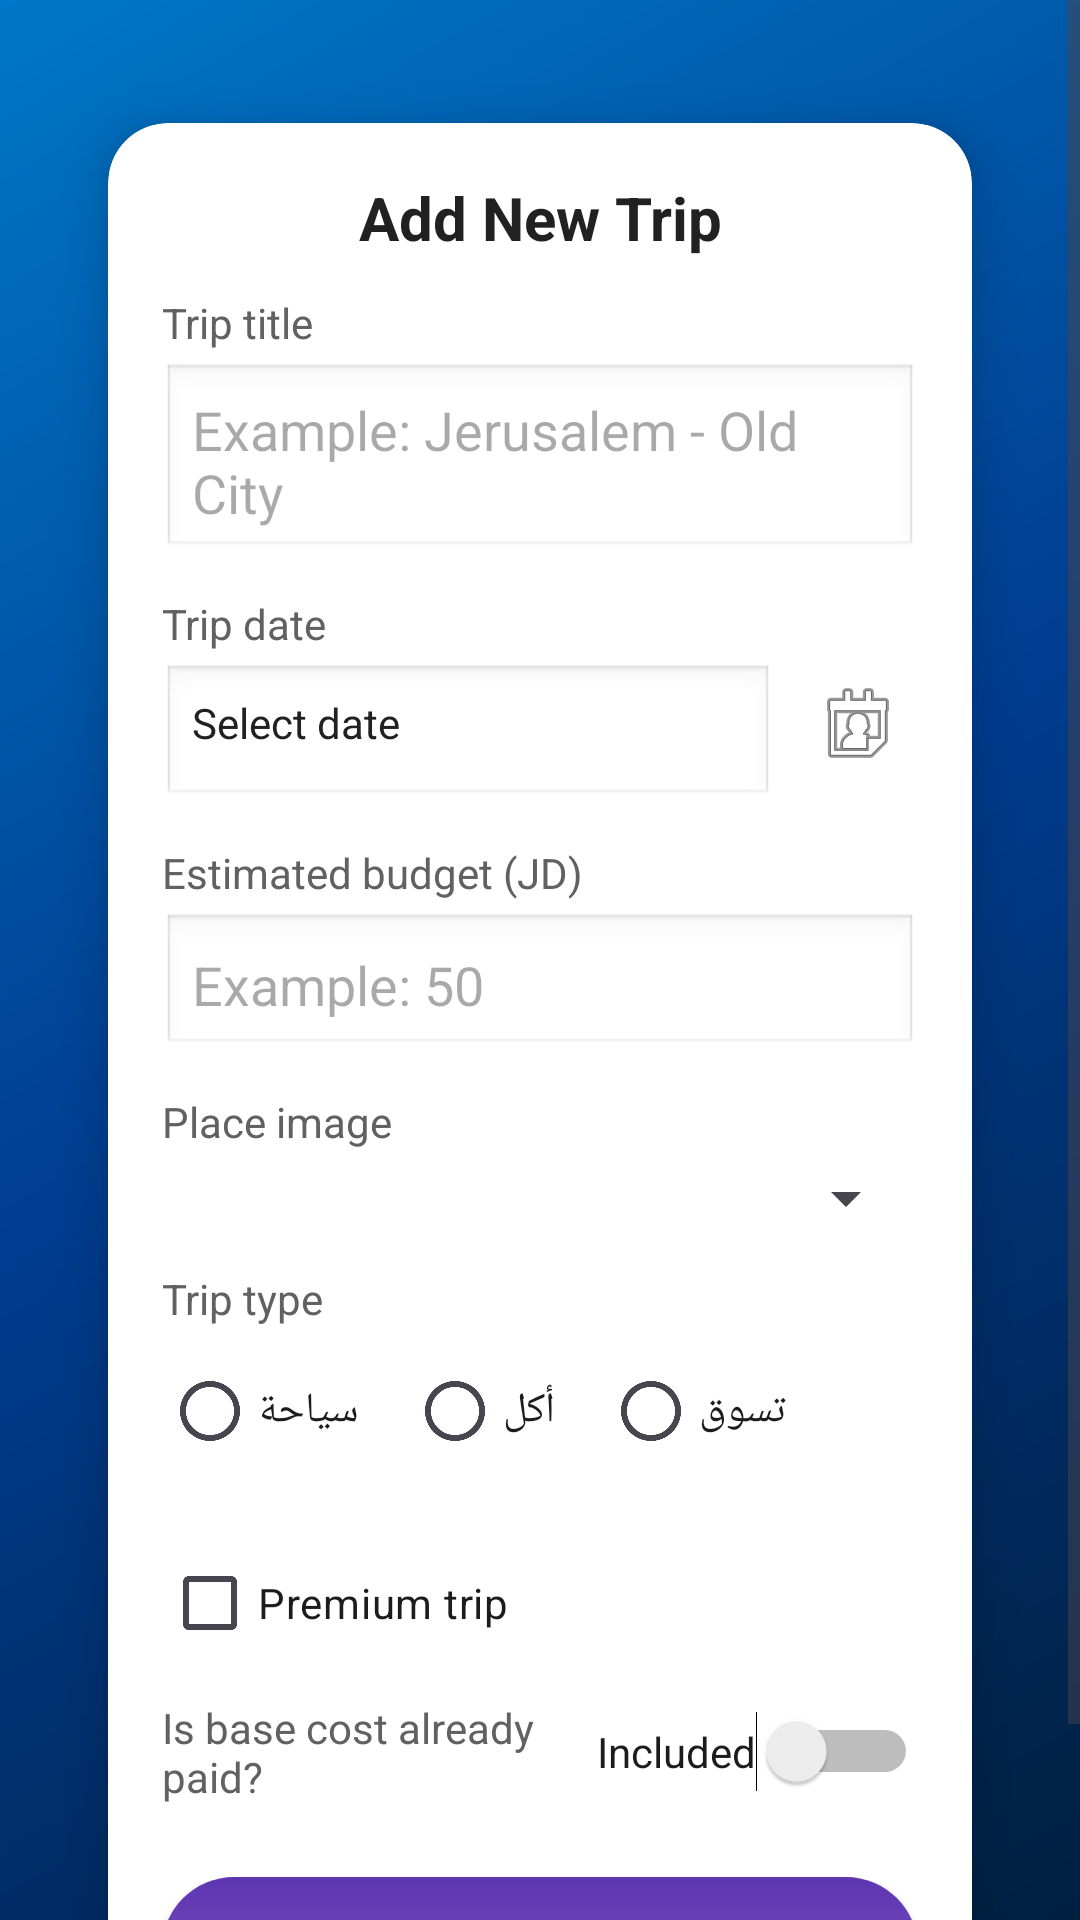

Named icons in this screenshot (1080 x 1920) and their bounding boxes, box=[x1, y1, x2, y2]:
Pick date: box=[827, 688, 889, 758]
